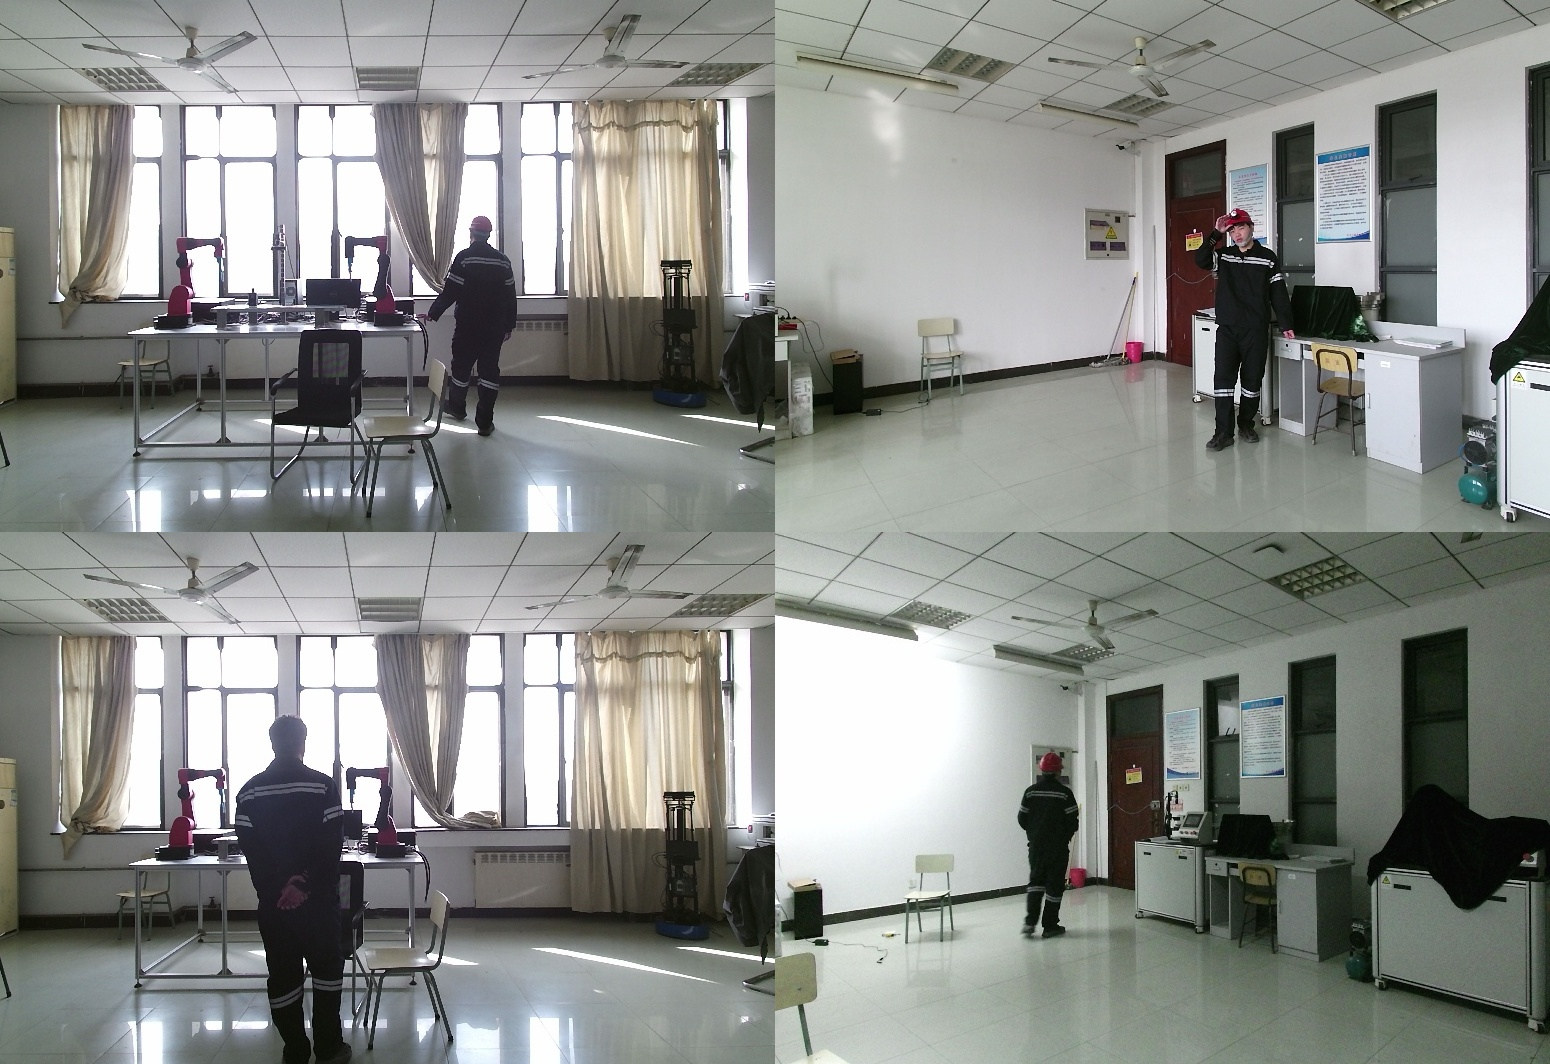person: (233, 717, 361, 1064), (1198, 209, 1300, 453), (417, 217, 523, 437), (1008, 753, 1081, 947)
